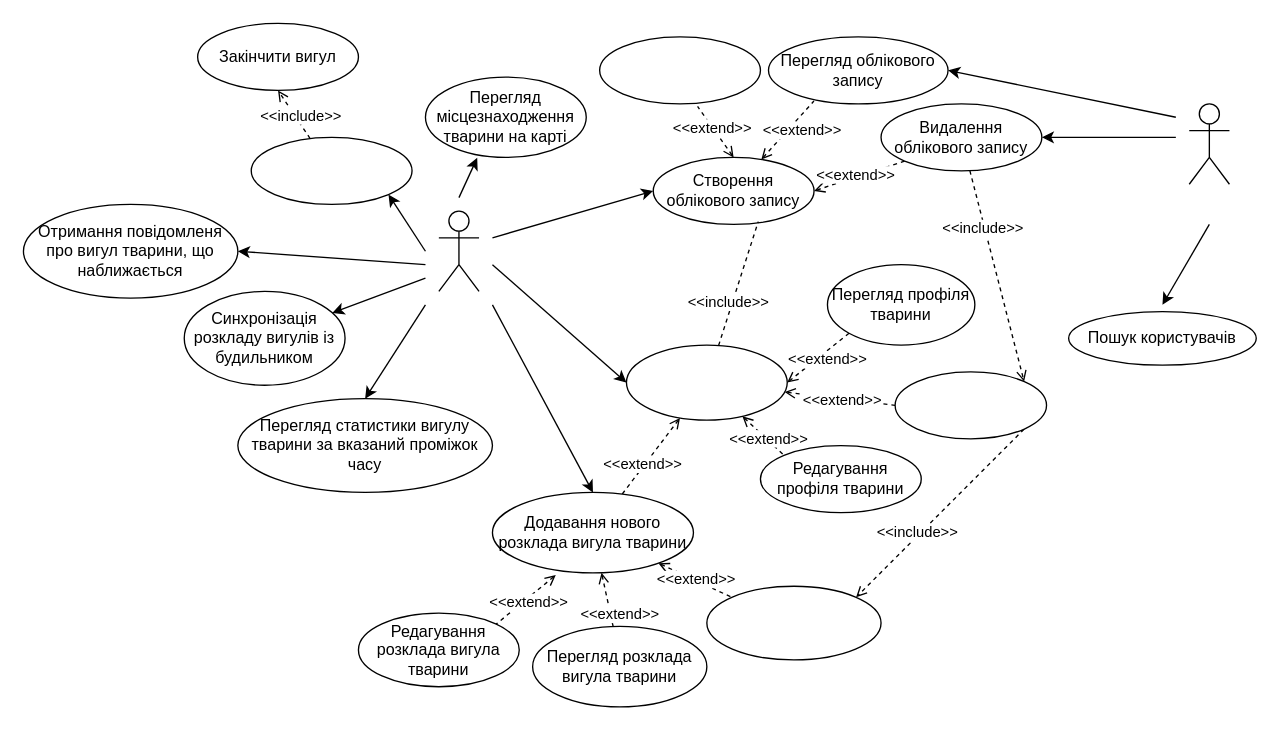
This 1280x730 diagram has some shape labels left out. Each missing label, with the centre of its shape:
"Admin" goes at (1208,143).
"User" goes at (458,250).
"Видалення профілю тварини" goes at (970,405).
"Видалення розклада вигула тварини" goes at (793,622).
"Додавання профіля тварини" goes at (706,382).
"Почати вигул" goes at (331,170).
"Редагування облікового запису" goes at (679,70).
